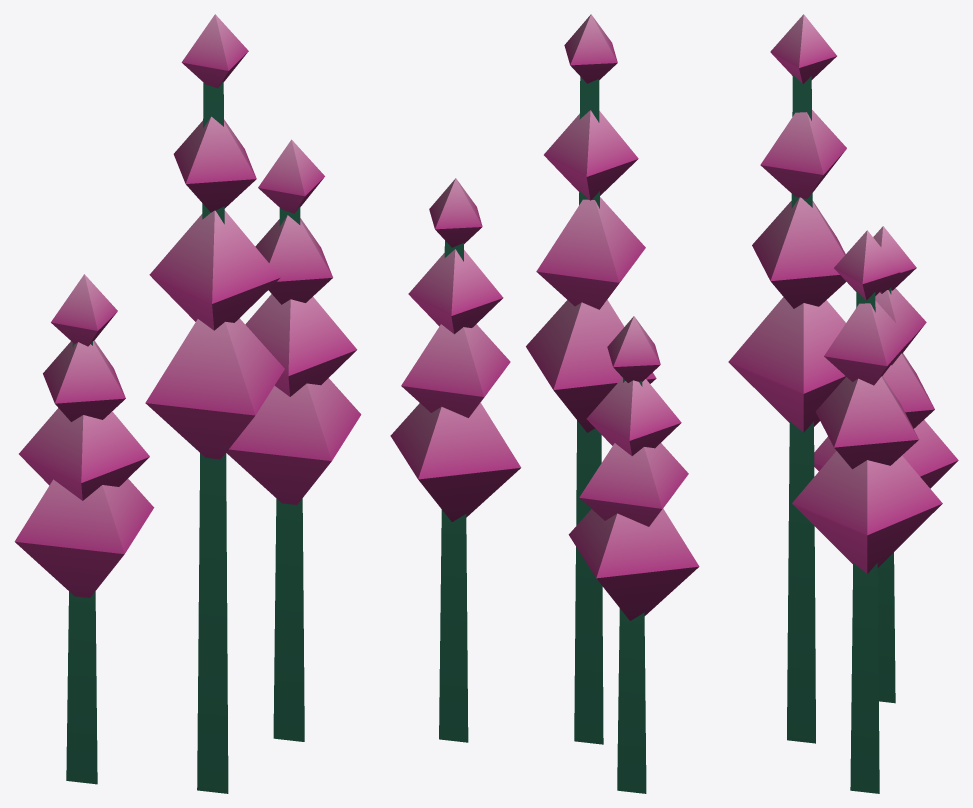
File: flower-spike.glb
The picture shows the model from 3 angles, left to right: view 1: azimuth 30°, elevation 25°; view 2: azimuth 150°, elevation 25°; view 3: azimuth 270°, elevation 25°; orthographic projection. The views are drawn at different scales.
Visible parts, largest first — view 1: flower-spike; view 2: flower-spike; view 3: flower-spike.
Boxes of the visible parts, x1=… form: flower-spike: x1=14, y1=14, x2=361, y2=793; flower-spike: x1=390, y1=14, x2=699, y2=793; flower-spike: x1=728, y1=14, x2=958, y2=793.
Bounding box in the file's own units: 0.46 × 1.01 × 0.29.
